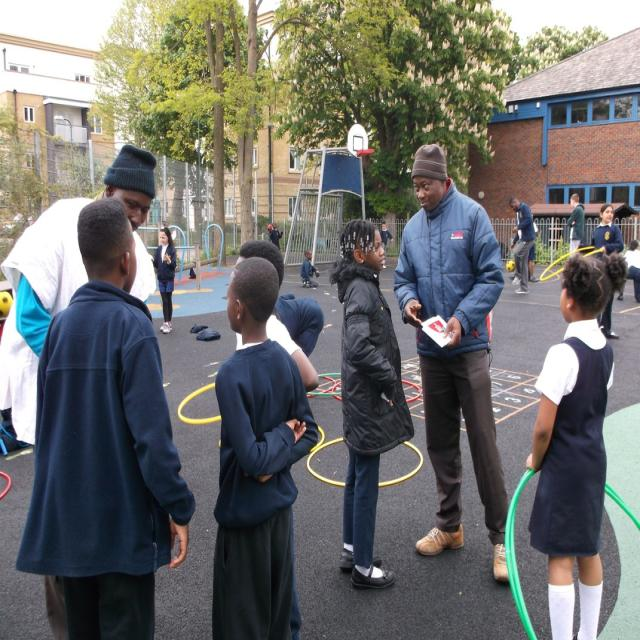body: (12, 195, 194, 640), (392, 142, 510, 584), (0, 142, 163, 452), (210, 255, 322, 640), (526, 251, 628, 639), (328, 216, 416, 590), (227, 240, 316, 394), (586, 203, 625, 339), (272, 292, 324, 359), (147, 226, 177, 334), (508, 195, 535, 295), (615, 239, 640, 303), (567, 192, 585, 258), (528, 208, 540, 283), (299, 248, 320, 289), (380, 220, 394, 270), (269, 222, 284, 251)
